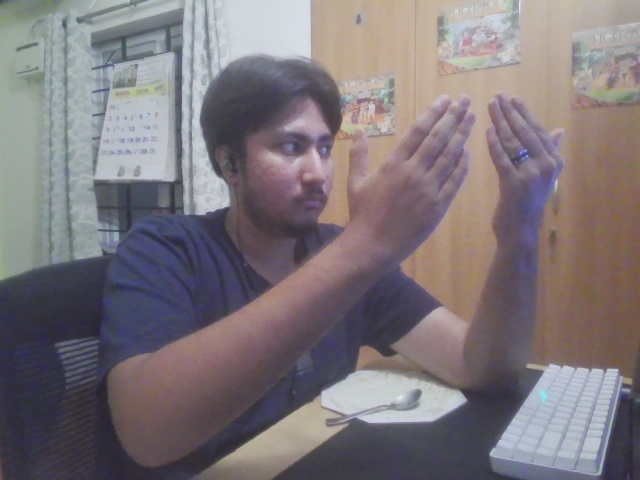thankyou: (346, 88, 563, 252)
